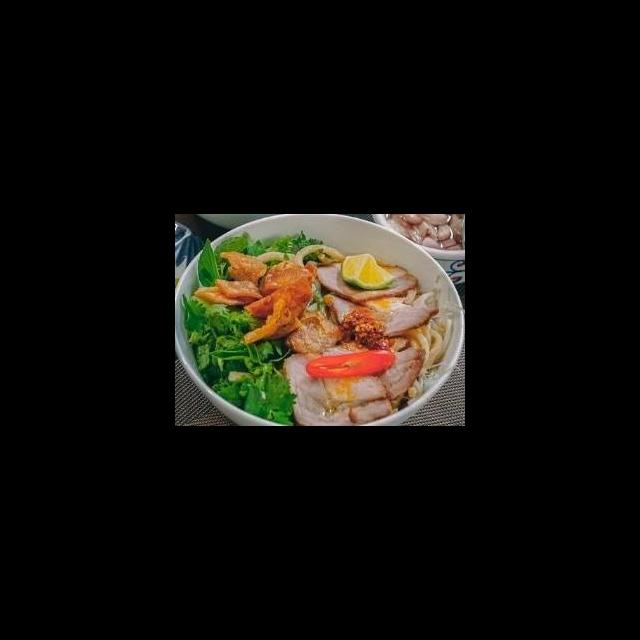banh da: (241, 273, 314, 347), (280, 307, 347, 357), (255, 259, 320, 303), (192, 277, 266, 310), (217, 248, 270, 289)
mi: (252, 242, 349, 273), (399, 322, 449, 379)
thit heo: (278, 340, 395, 426), (319, 285, 443, 342), (352, 333, 427, 412), (312, 255, 421, 308)
